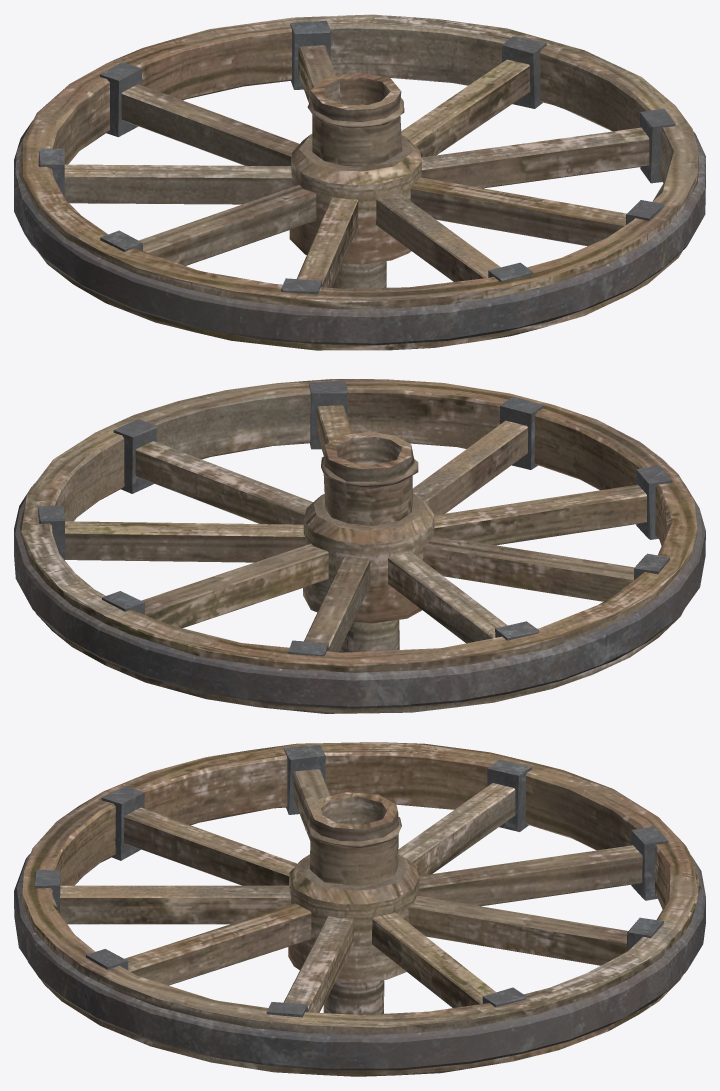
The model's file is SM_Wheel.fbx.
3 renders of one model, top to bottom at view 1: azimuth 30°, elevation 25°; view 2: azimuth 150°, elevation 25°; view 3: azimuth 270°, elevation 25°, orthographic.
Visible parts, largest first — view 1: SM_Wheel_LOD0; view 2: SM_Wheel_LOD0; view 3: SM_Wheel_LOD0.
Boxes of the visible parts, box(x1,y1,x2,y2) form: SM_Wheel_LOD0: box(14, 14, 705, 350); SM_Wheel_LOD0: box(14, 379, 705, 713); SM_Wheel_LOD0: box(14, 742, 705, 1076).
Size of the model in its own units: 94.65 by 94.97 by 33.04.
